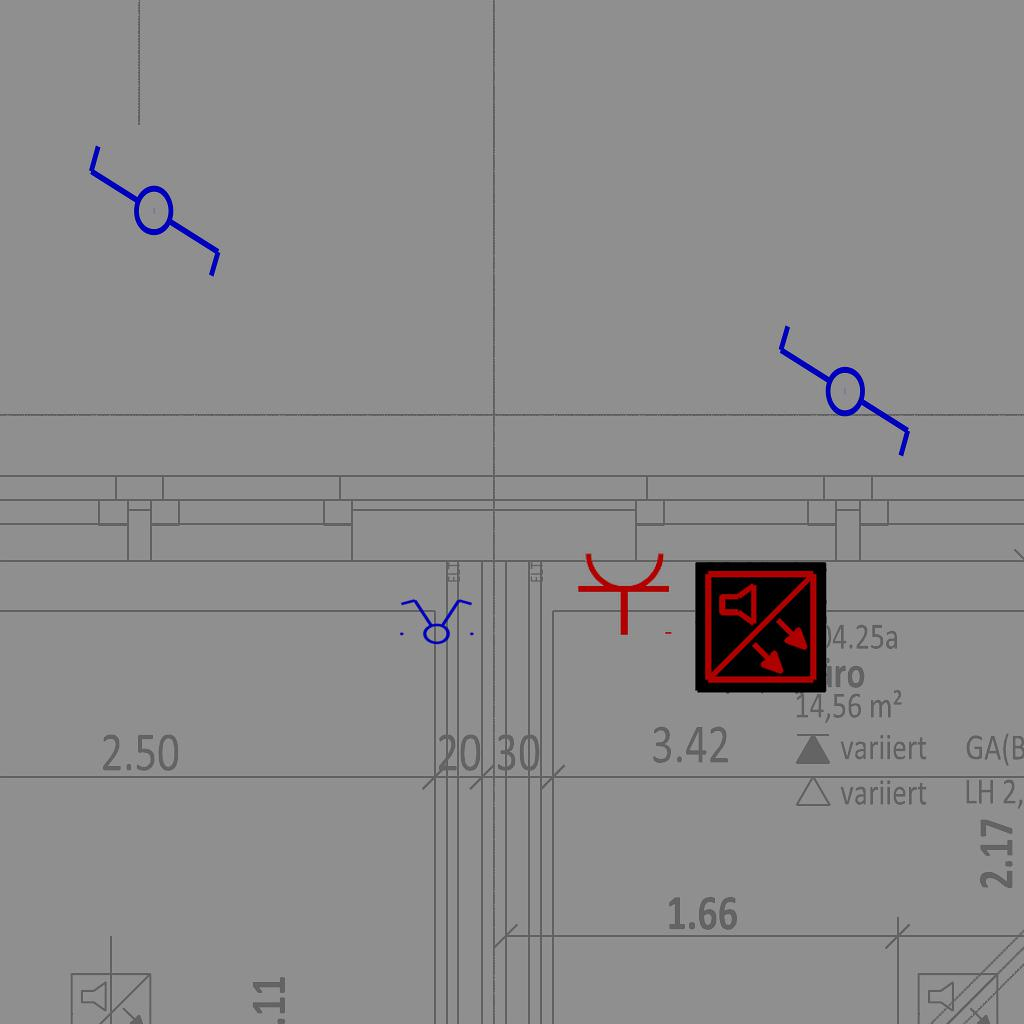OKW_Multisensormelder_(Kombination_optischer_Rauch-Kahlenmonoxid_Waerme-Melder): (695, 562, 827, 694)
Schukosteckdose_einfach: (576, 550, 676, 637)
Serienschalter: (394, 597, 478, 645)
Wechselschalter: (84, 124, 228, 281), (771, 321, 915, 478)
